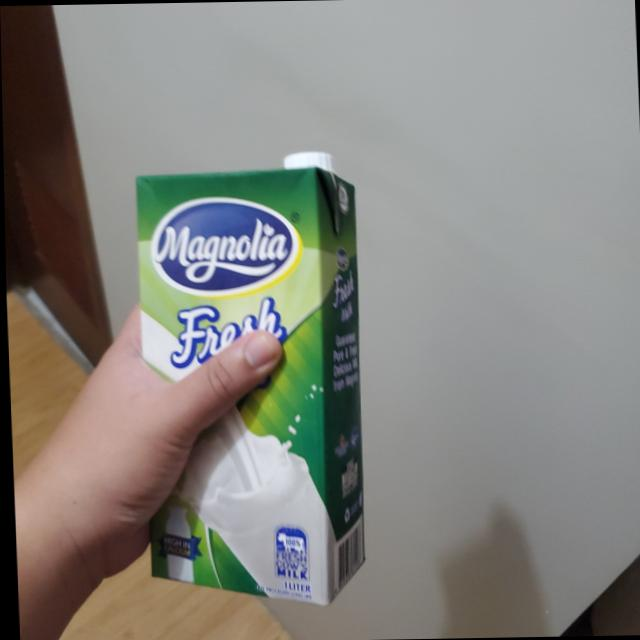milk: (133, 151, 367, 608)
